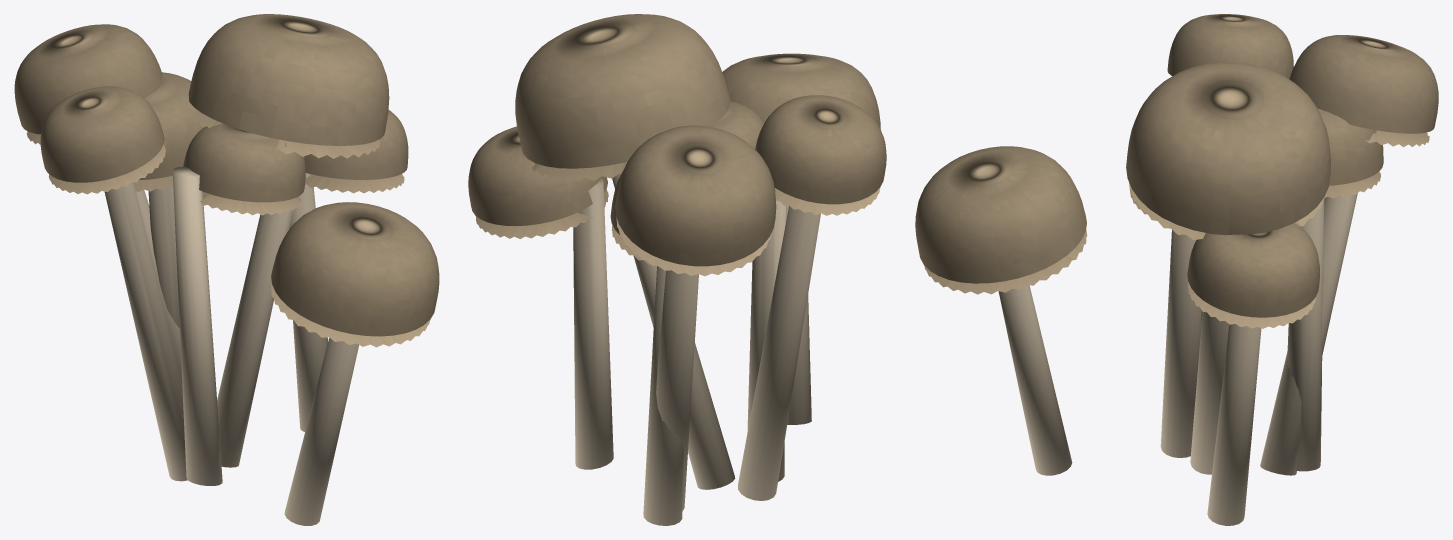
The model's file is mush_cluster.glb.
The picture shows the model from 3 angles, left to right: view 1: azimuth 30°, elevation 25°; view 2: azimuth 150°, elevation 25°; view 3: azimuth 270°, elevation 25°; orthographic projection. The views are drawn at different scales.
Visible parts, largest first — view 1: mush_cluster; view 2: mush_cluster; view 3: mush_cluster.
Boxes of the visible parts, x1=… form: mush_cluster: x1=14, y1=14, x2=439, y2=525; mush_cluster: x1=468, y1=14, x2=886, y2=525; mush_cluster: x1=915, y1=14, x2=1438, y2=525.
Bounding box in the file's own units: 0.057 × 0.0625 × 0.07.
